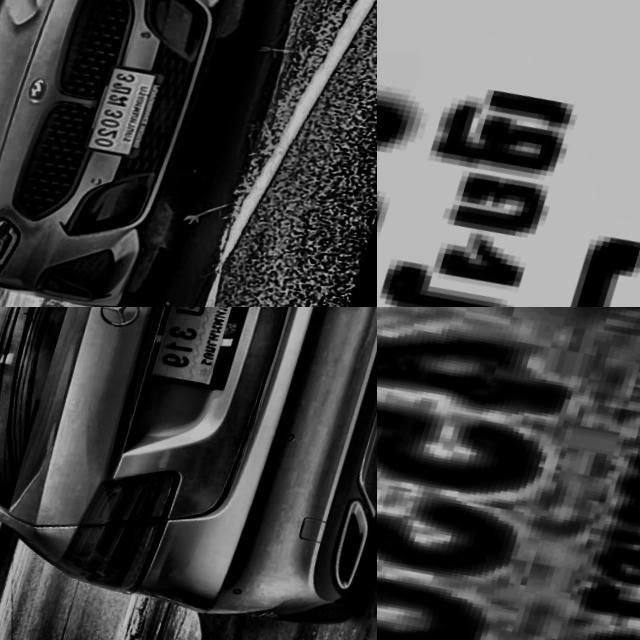license-plate: (377, 307, 640, 640), (377, 0, 640, 307), (142, 307, 265, 407), (86, 65, 172, 168)
